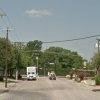Bus: (25, 63, 37, 81)
